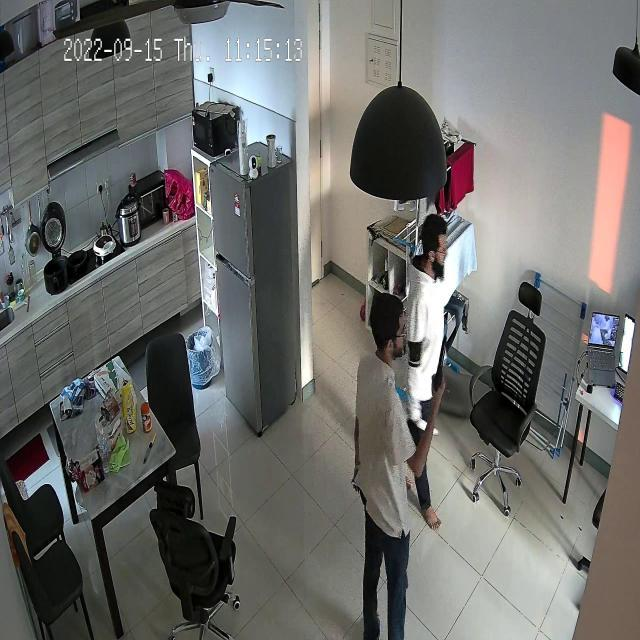Gun: (435, 334, 456, 410)
Knife: (406, 412, 456, 446)
